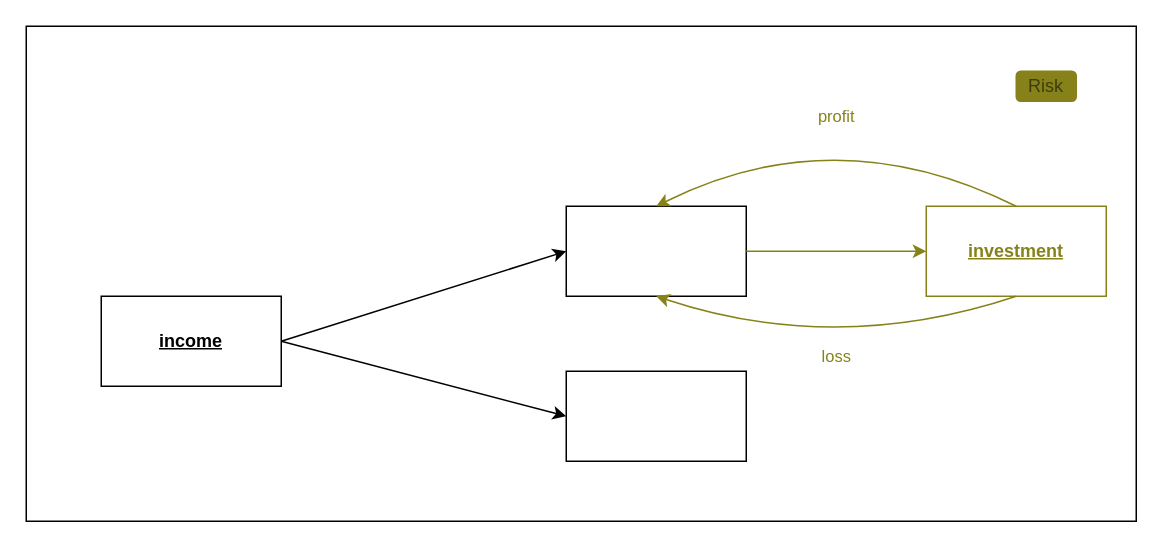
Image size: 1163x548. Some labels were removed from this diagram. The shapes that lost their labels are listed below. From the top down, each one's centre as x and y in pixels, then its label:
(x=655, y=250): savings
(x=655, y=415): spending
